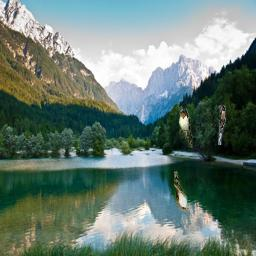Cuckoo: (174, 171, 189, 211)
Swallow: (179, 109, 193, 148), (218, 105, 226, 145)
